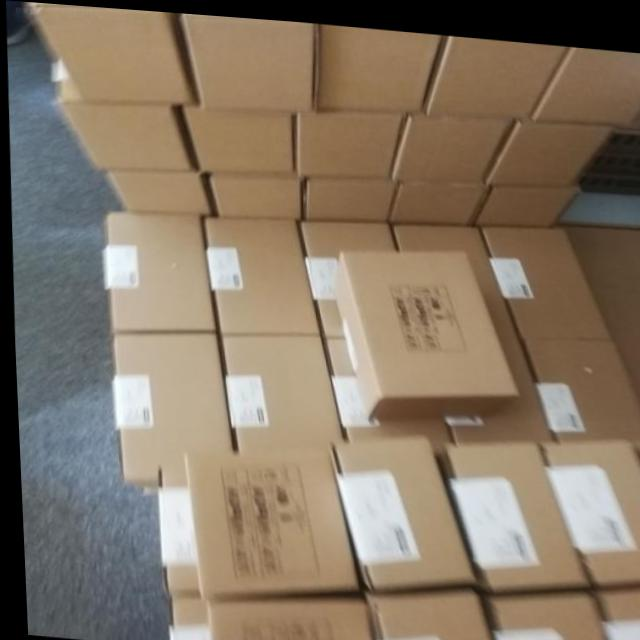box: (389, 217, 553, 435), (329, 243, 518, 417), (180, 440, 361, 598), (323, 428, 473, 587), (435, 435, 587, 586), (107, 328, 229, 484), (25, 1, 195, 102), (53, 58, 193, 170), (535, 430, 640, 579), (318, 332, 449, 449), (476, 218, 610, 332), (215, 330, 343, 448), (560, 214, 640, 402), (99, 209, 215, 332), (174, 10, 315, 108), (200, 214, 318, 331), (518, 331, 640, 434), (420, 28, 569, 110), (313, 18, 442, 108), (297, 216, 396, 333), (200, 584, 368, 640), (480, 109, 614, 178), (387, 103, 510, 176), (528, 37, 640, 117), (177, 103, 295, 173), (359, 578, 490, 640), (476, 579, 605, 640), (294, 103, 403, 175), (151, 483, 196, 594), (387, 174, 490, 219), (299, 169, 394, 216), (471, 178, 579, 219), (202, 170, 300, 215), (106, 170, 211, 210), (585, 575, 640, 640), (163, 592, 203, 640), (578, 163, 640, 186), (588, 143, 640, 166), (598, 117, 640, 145), (628, 429, 640, 456), (627, 100, 640, 118)
